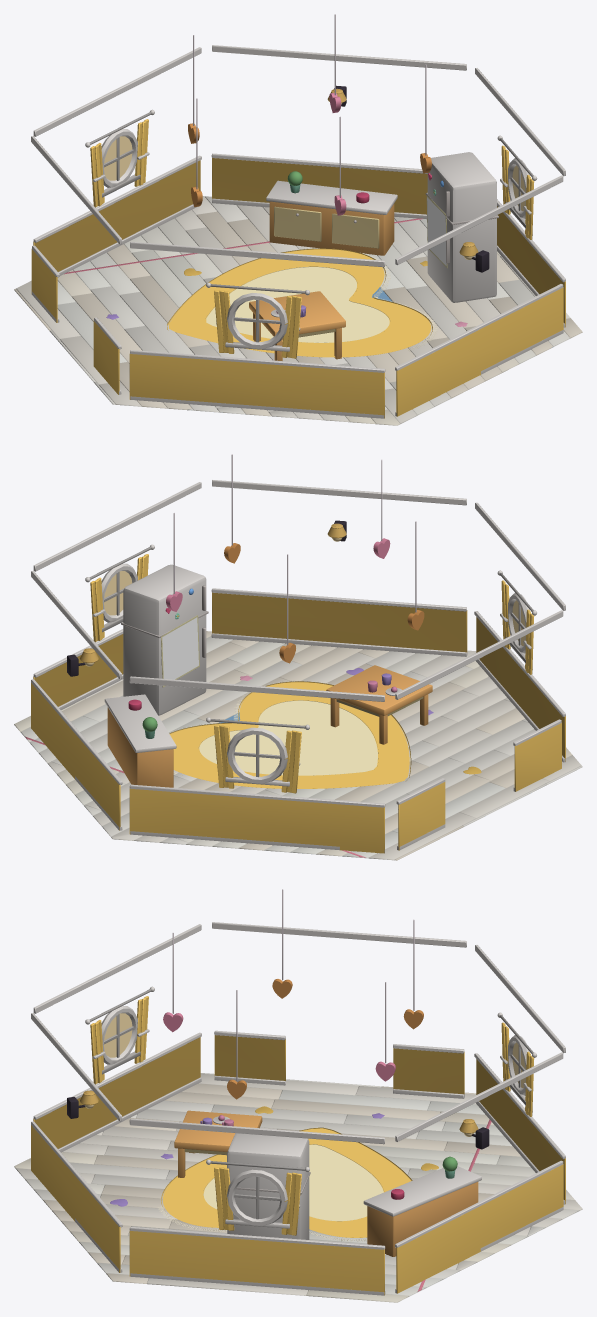
Rendered from zon_room_note.glb.
The picture shows the model from 3 angles, top to bottom: view 1: azimuth 30°, elevation 25°; view 2: azimuth 150°, elevation 25°; view 3: azimuth 270°, elevation 25°; orthographic projection.
Visible parts, largest first — view 1: SM_zon_room_note_room_floor_plaster_x0_z0, SM_zon_room_note_room_floor_gloss_x0_z0, SM_zon_room_note_room_rug_fabric_x0_z0, SM_zon_room_note_room_floor_wood_x0_z0, SM_zon_room_note_glow_vc_x0_z0, SCREEN_fur_fridge_note_note__0; view 2: SM_zon_room_note_room_floor_plaster_x0_z0, SM_zon_room_note_room_floor_gloss_x0_z0, SM_zon_room_note_room_rug_fabric_x0_z0, SM_zon_room_note_room_floor_wood_x0_z0, SCREEN_fur_fridge_note_note__0, SM_zon_room_note_glow_vc_x0_z0; view 3: SM_zon_room_note_room_floor_plaster_x0_z0, SM_zon_room_note_room_floor_gloss_x0_z0, SM_zon_room_note_room_rug_fabric_x0_z0, SM_zon_room_note_room_floor_wood_x0_z0, SM_zon_room_note_glow_vc_x0_z0.
Part boxes in pixels (left/top/right/bottom): SM_zon_room_note_room_floor_plaster_x0_z0: left=14, top=14, right=582, bottom=425; SM_zon_room_note_room_floor_gloss_x0_z0: left=31, top=119, right=565, bottom=418; SM_zon_room_note_room_rug_fabric_x0_z0: left=167, top=248, right=437, bottom=357; SM_zon_room_note_room_floor_wood_x0_z0: left=249, top=201, right=394, bottom=360; SM_zon_room_note_glow_vc_x0_z0: left=104, top=103, right=525, bottom=259; SCREEN_fur_fridge_note_note__0: left=427, top=197, right=446, bottom=265; SM_zon_room_note_room_floor_plaster_x0_z0: left=14, top=454, right=582, bottom=860; SM_zon_room_note_room_floor_gloss_x0_z0: left=31, top=554, right=565, bottom=853; SM_zon_room_note_room_rug_fabric_x0_z0: left=169, top=680, right=411, bottom=788; SM_zon_room_note_room_floor_wood_x0_z0: left=107, top=665, right=432, bottom=787; SCREEN_fur_fridge_note_note__0: left=162, top=617, right=198, bottom=679; SM_zon_room_note_glow_vc_x0_z0: left=84, top=537, right=525, bottom=666; SM_zon_room_note_room_floor_plaster_x0_z0: left=14, top=889, right=582, bottom=1302; SM_zon_room_note_room_floor_gloss_x0_z0: left=31, top=996, right=565, bottom=1295; SM_zon_room_note_room_rug_fabric_x0_z0: left=158, top=1127, right=412, bottom=1241; SM_zon_room_note_room_floor_wood_x0_z0: left=174, top=1110, right=478, bottom=1256; SM_zon_room_note_glow_vc_x0_z0: left=84, top=1013, right=525, bottom=1136.
Size of the model in its own units: 9.96 by 4.99 by 10.44.
